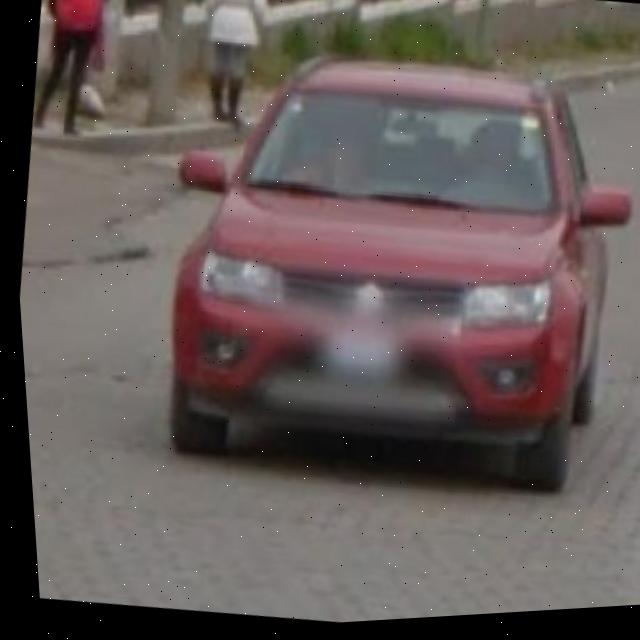vehicle: (124, 28, 640, 521)
